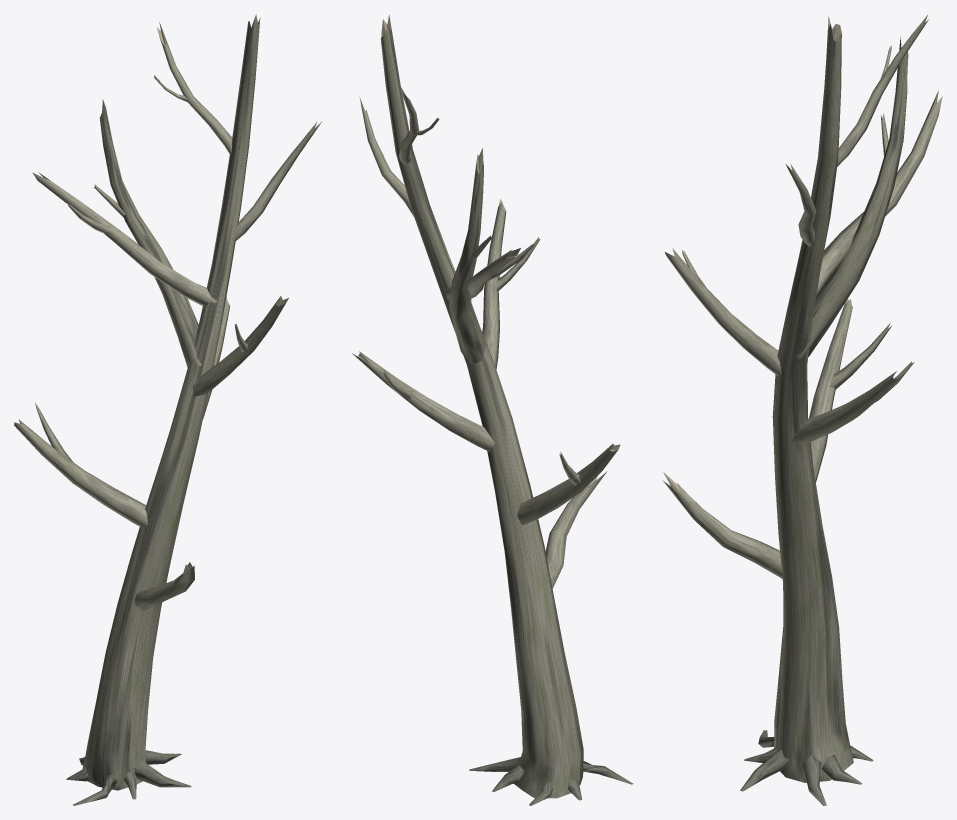
The model's file is dead-tree-2.glb.
The picture shows the model from 3 angles, left to right: view 1: azimuth 30°, elevation 25°; view 2: azimuth 150°, elevation 25°; view 3: azimuth 270°, elevation 25°; orthographic projection. The views are drawn at different scales.
Parts seen in each view (by area): view 1: dead-tree-2; view 2: dead-tree-2; view 3: dead-tree-2.
Boxes of the visible parts, bbox=[...] form: dead-tree-2: bbox=[14, 14, 322, 805]; dead-tree-2: bbox=[352, 15, 633, 805]; dead-tree-2: bbox=[662, 15, 942, 805].
Bounding box in the file's own units: 8.6 × 21 × 6.4.
Materials: 1 (1 with a texture image).
